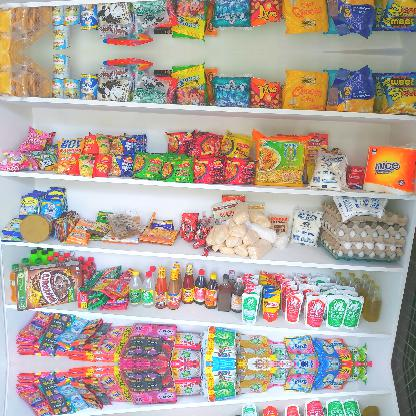Koko-Krunch: (14, 258, 84, 312)
Lady-s-Choice: (16, 210, 56, 244)
